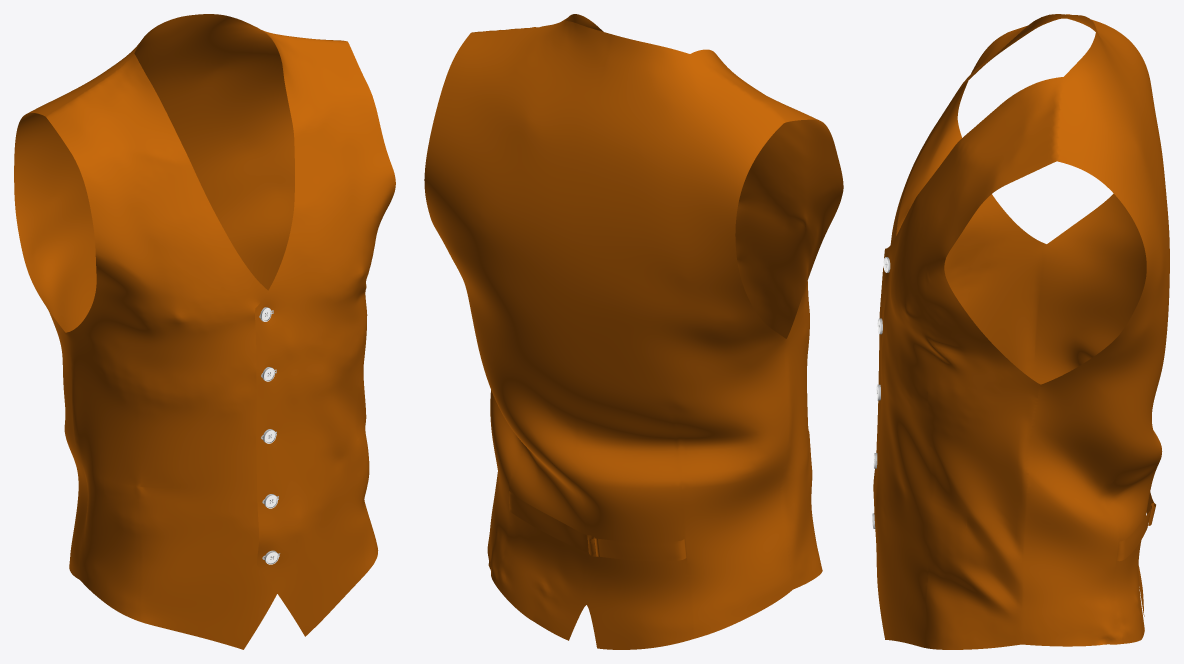
The model's file is waistcoat_euro.fbx.
3 views of the same model, side by side, from view 1: azimuth 30°, elevation 25°; view 2: azimuth 150°, elevation 25°; view 3: azimuth 270°, elevation 25° (orthographic). The views are drawn at different scales.
Parts seen in each view (by area): view 1: waistcoat_euro; view 2: waistcoat_euro; view 3: waistcoat_euro.
Part boxes in pixels (x1,y1,x2,y2): waistcoat_euro: (14, 14, 395, 649); waistcoat_euro: (424, 14, 843, 649); waistcoat_euro: (872, 14, 1169, 649).
Bounding box in the file's own units: 356 × 620 × 282.
